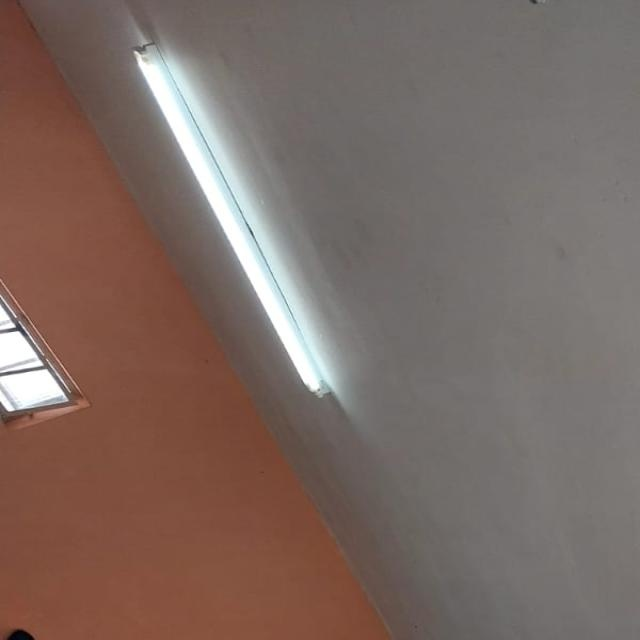fluorescent tube: (88, 32, 360, 440)
